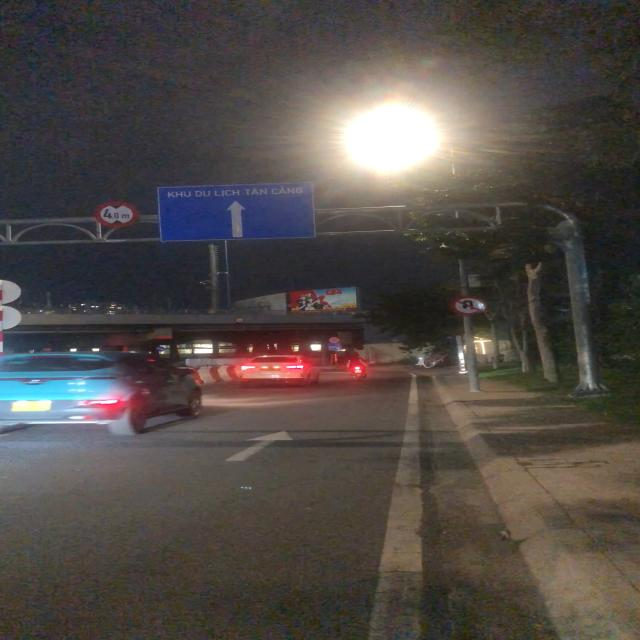Bien bao cam quay dau xe: (447, 294, 488, 317)
Bien bao han che chieu cao: (92, 200, 138, 229)
